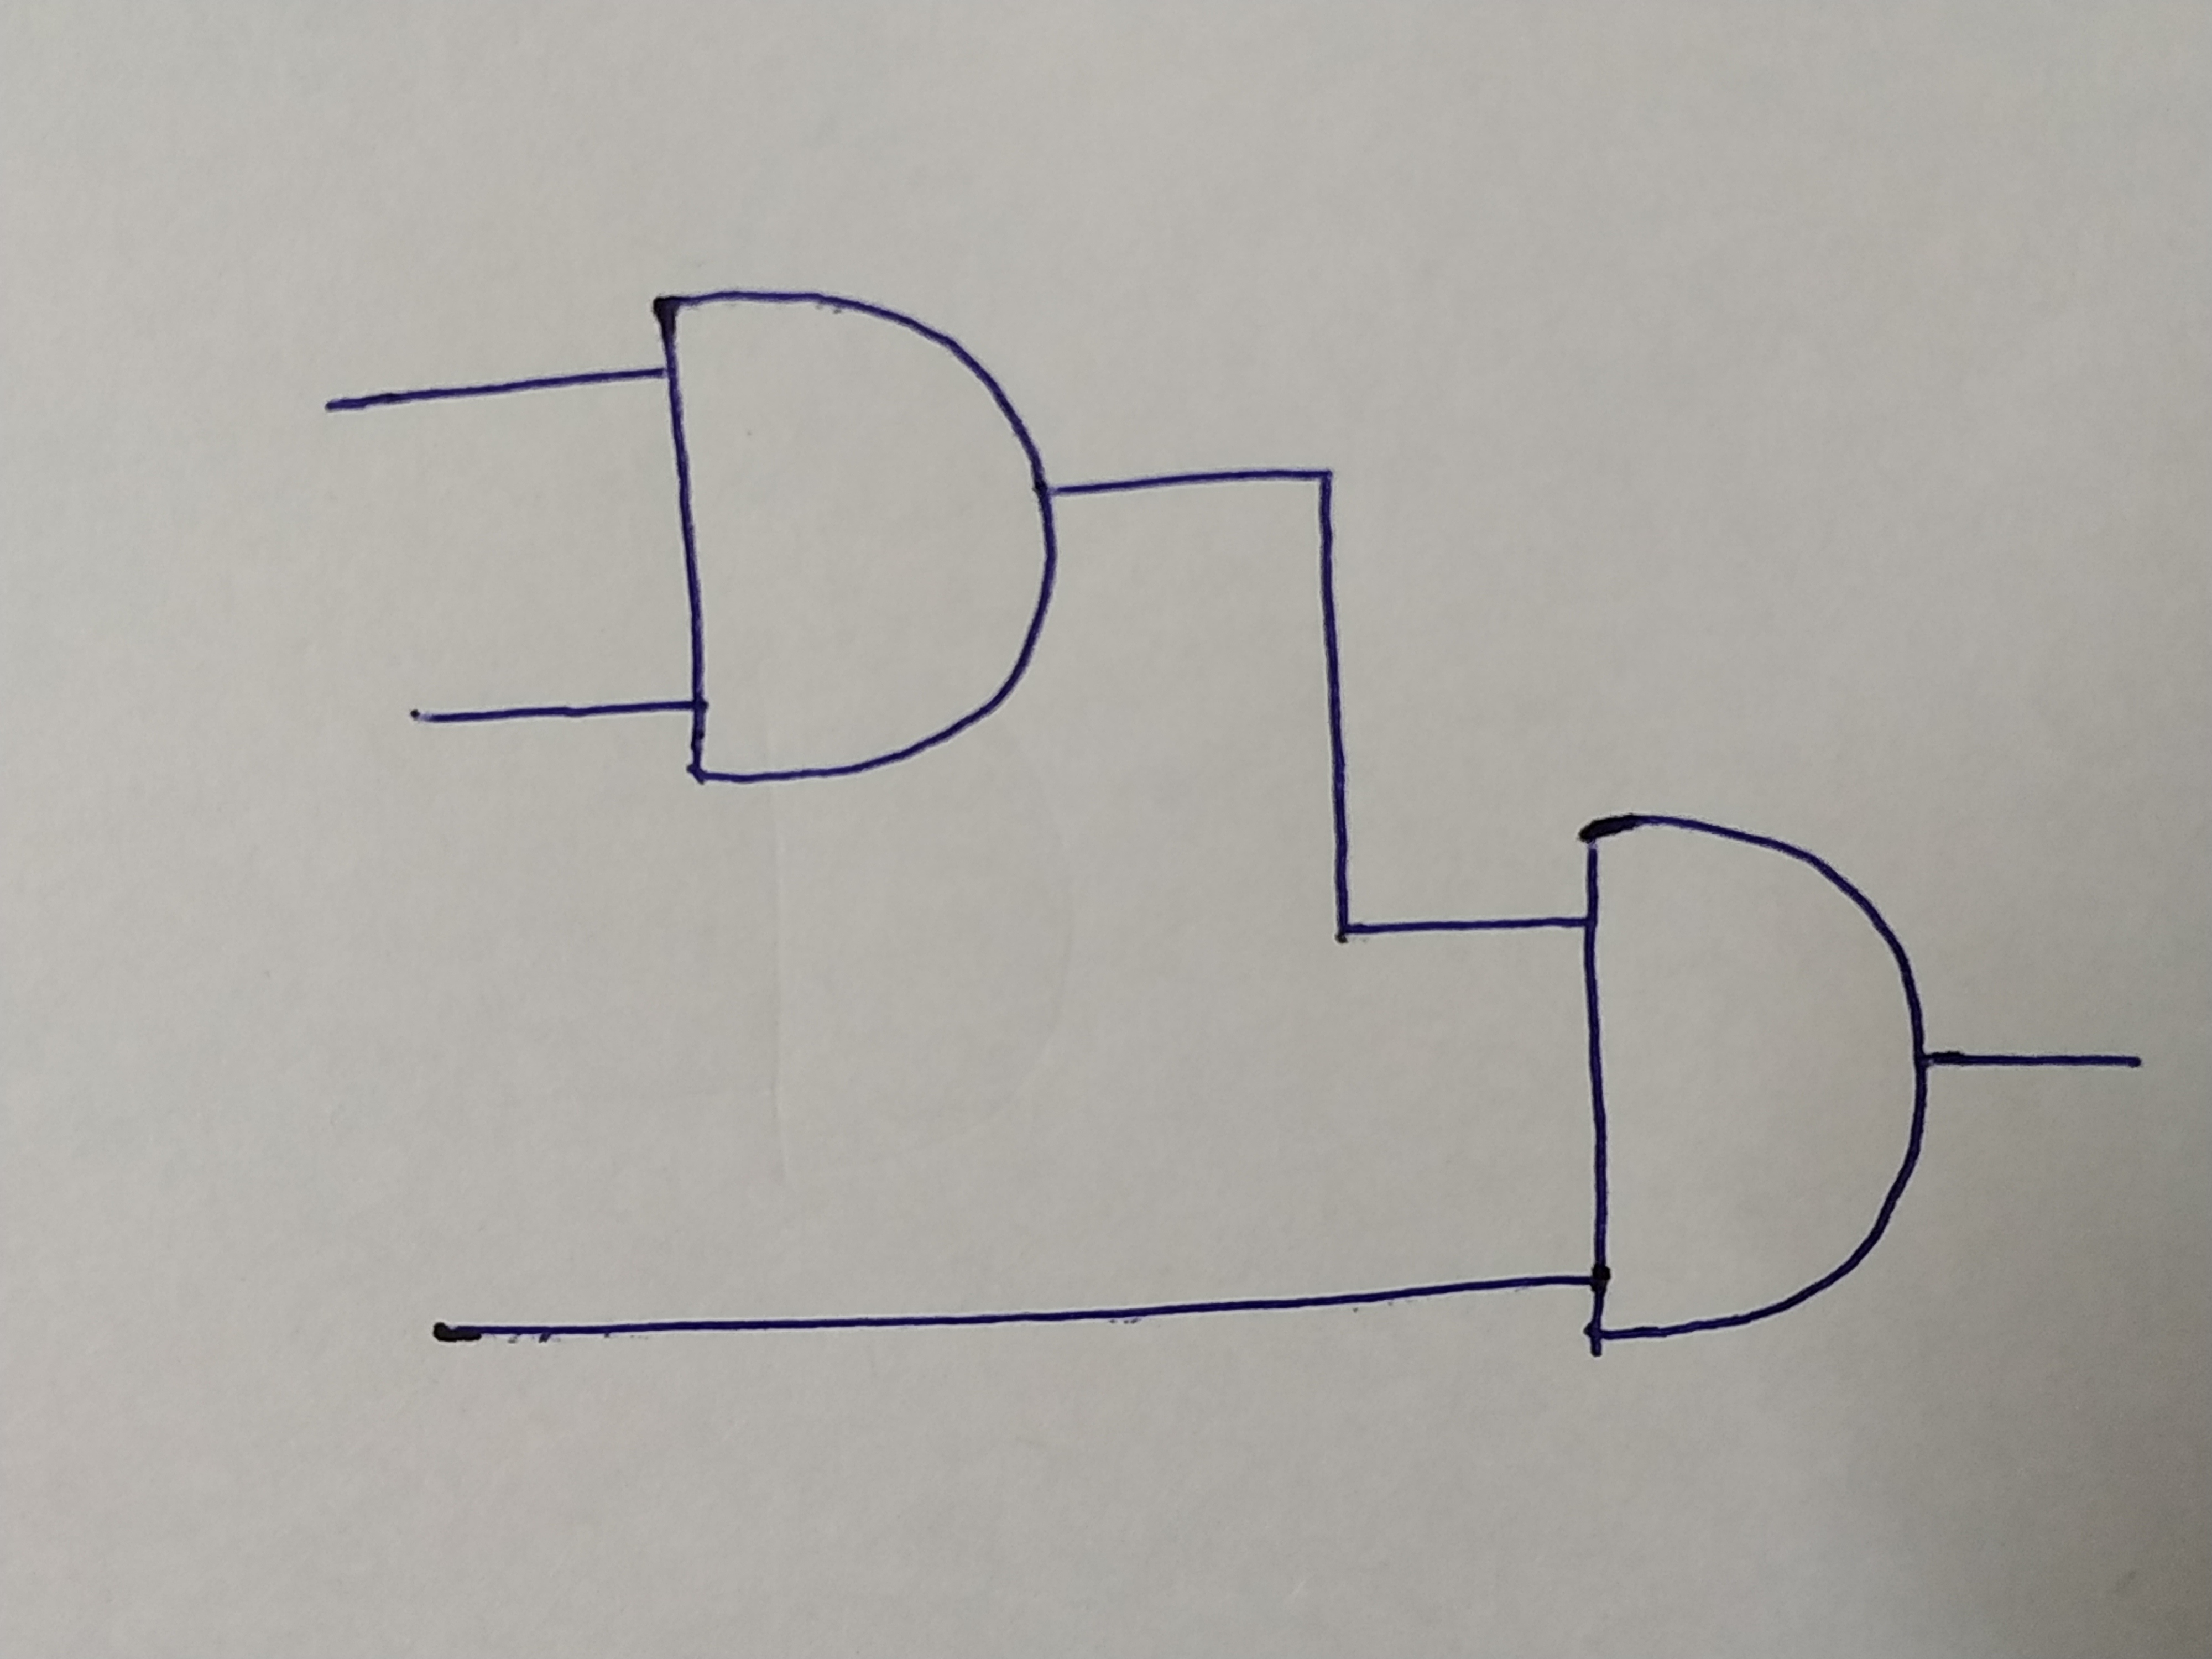and: (657, 289, 1057, 784), (1578, 812, 1928, 1340)
